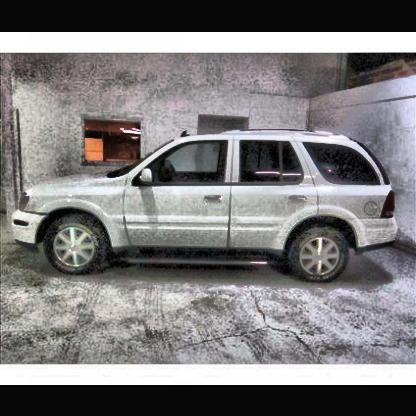Buick Rainier SUV 2007: (6, 126, 402, 288)
